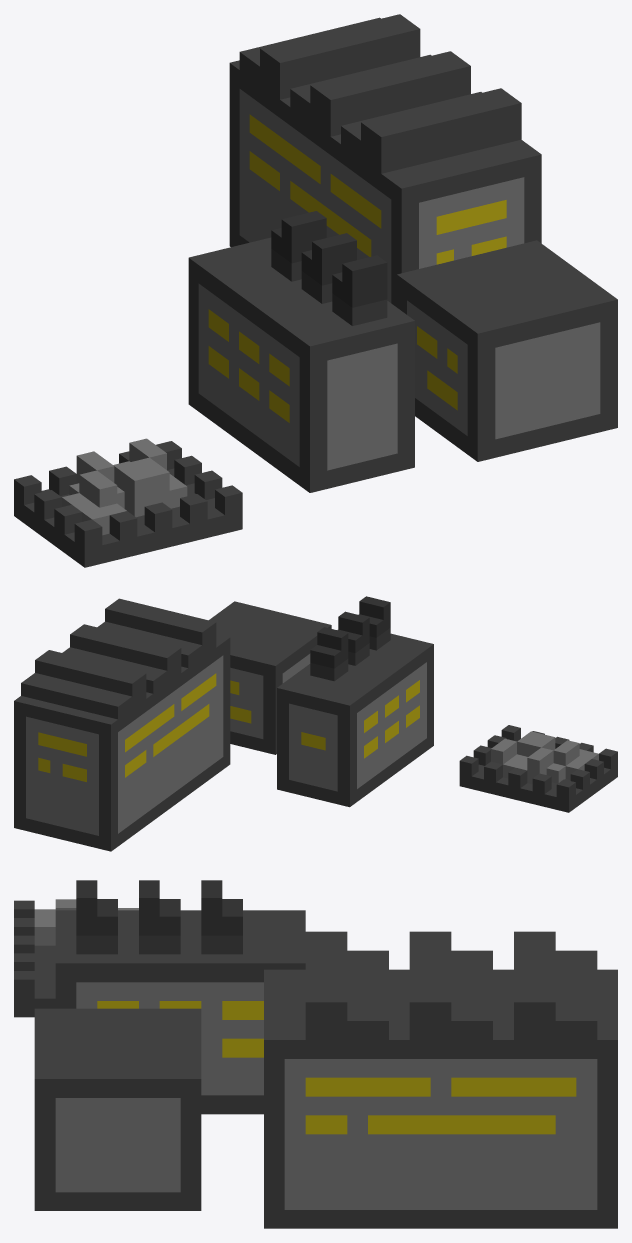
Rendered from industry_building.obj.
3 views of the same model, one above another, from view 1: azimuth 30°, elevation 25°; view 2: azimuth 150°, elevation 25°; view 3: azimuth 270°, elevation 25° (orthographic). The views are drawn at different scales.
Bounding box in the file's own units: 3.3 × 1.2 × 2.9.
1 material, 1 textured.
